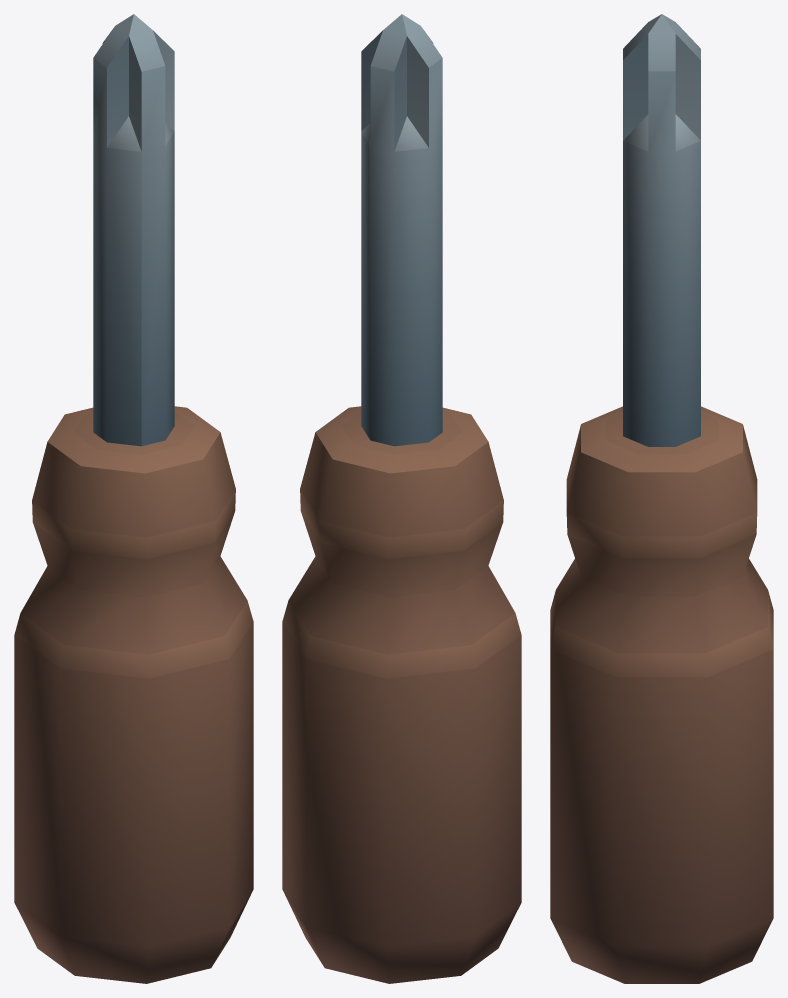
Rendered from screwdriver_B_short.glb.
3 views of the same model, side by side, from view 1: azimuth 30°, elevation 25°; view 2: azimuth 150°, elevation 25°; view 3: azimuth 270°, elevation 25° (orthographic).
Parts seen in each view (by area): view 1: screwdriver_B_short; view 2: screwdriver_B_short; view 3: screwdriver_B_short.
Boxes of the visible parts, <box> form: screwdriver_B_short: <box>14,14,253,983</box>; screwdriver_B_short: <box>282,14,521,983</box>; screwdriver_B_short: <box>550,14,773,983</box>.
Size of the model in its own units: 0.1513 by 0.7136 by 0.1513.
1 material, 1 textured.
